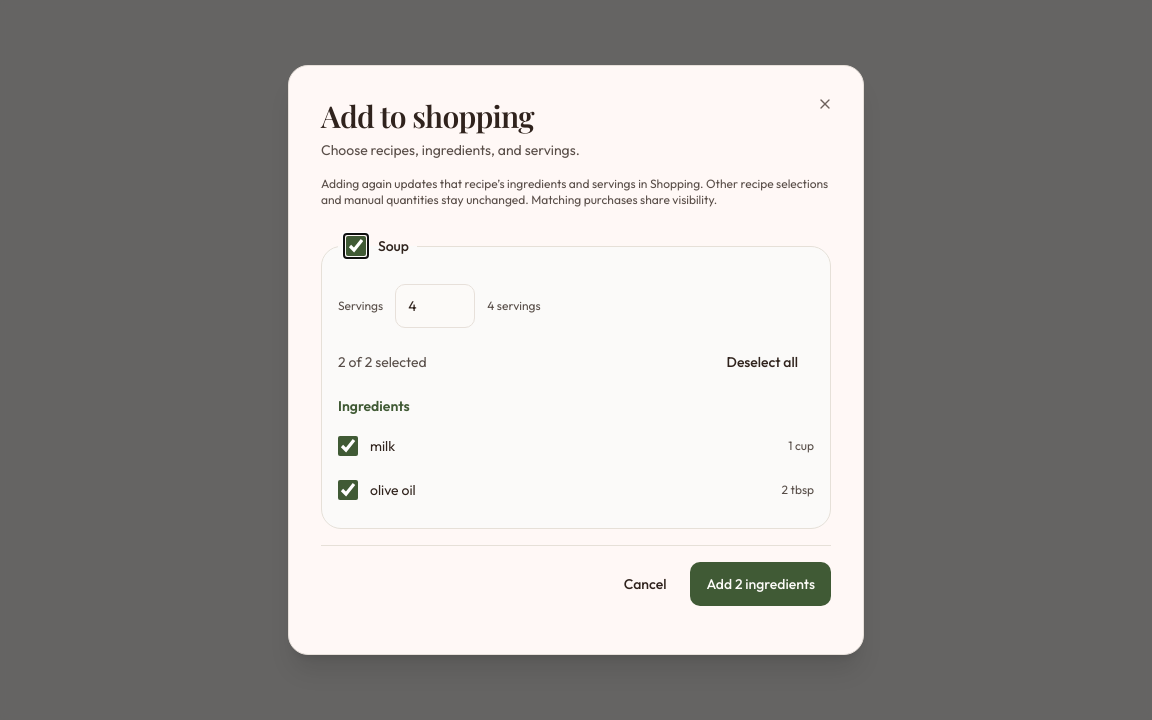
Shopping selection dialog › keeps selections and shows a failed save for retry
The image size is (1152, 720).
Click the button "Add 2 ingredients" at (761, 584), box [690,562,831,606]
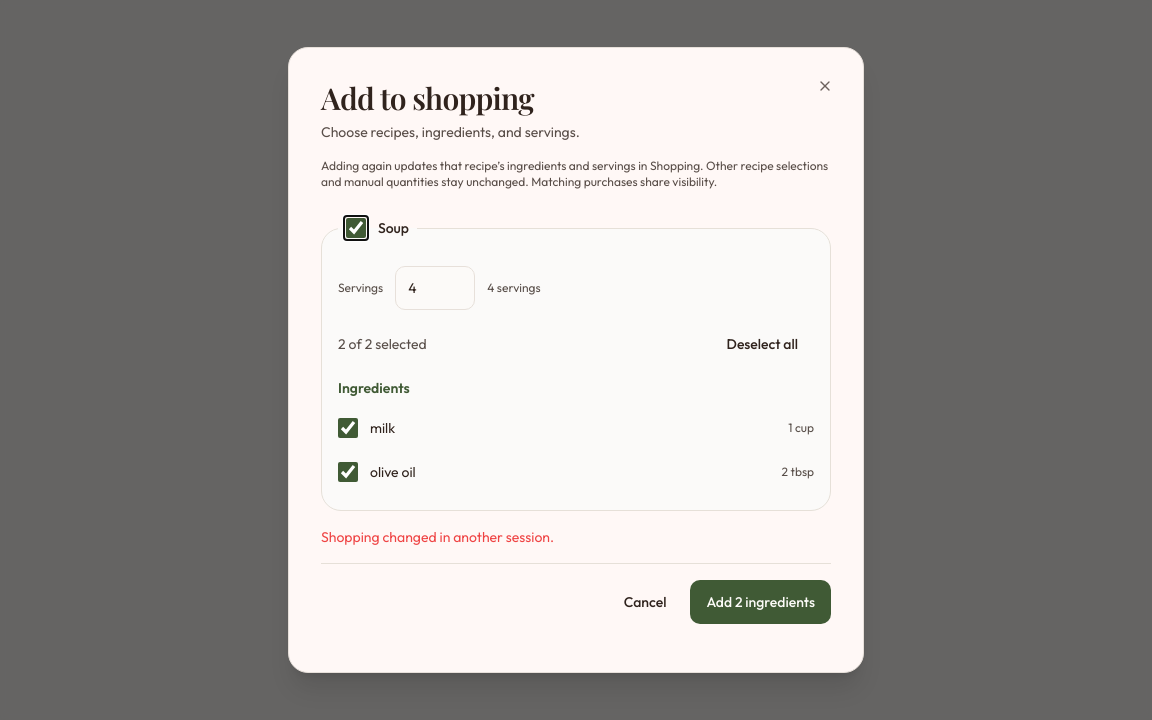
Check: the checkbox named "Soup: milk, ingredient 1" is checked, box [338,418,358,438]
Check: the message shows "Shopping changed", box [321,528,554,546]
